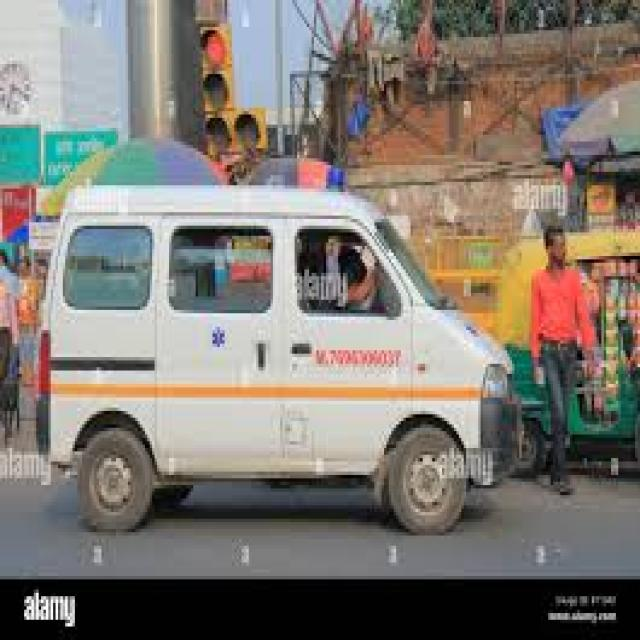Ambulance: (45, 159, 525, 570)
